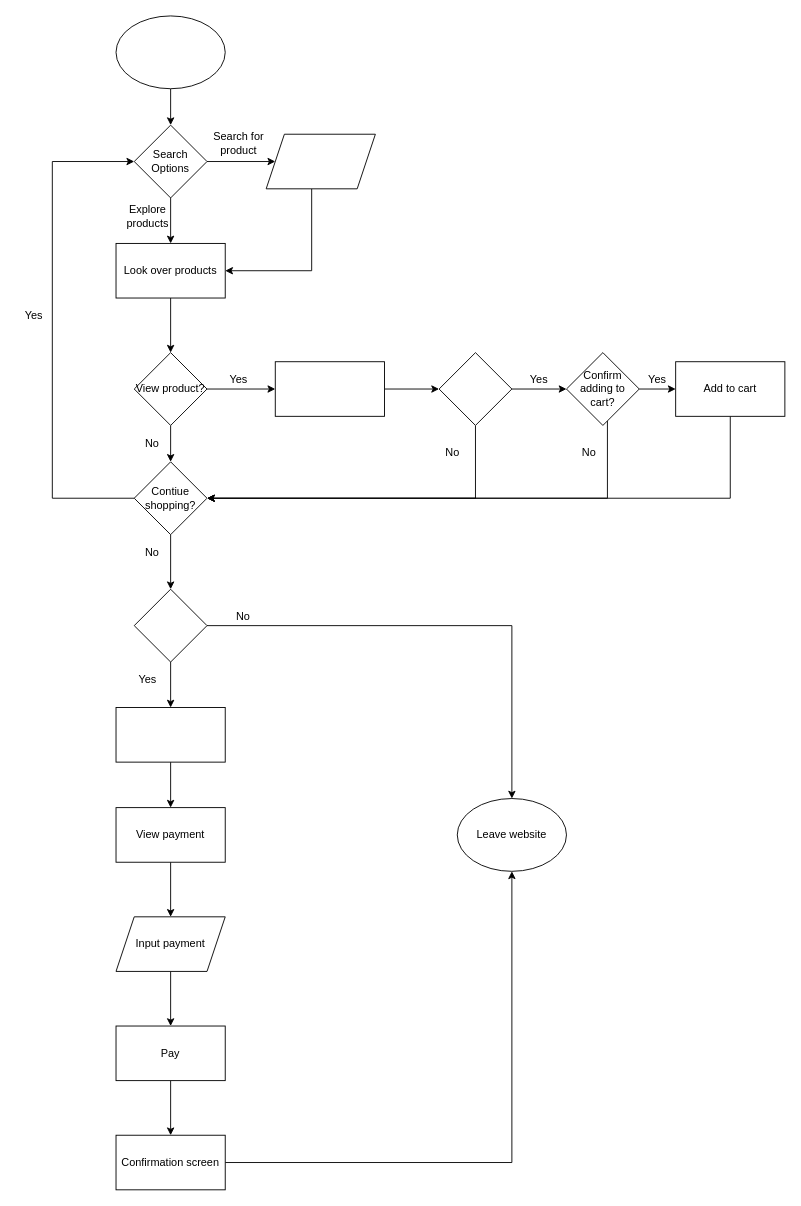
This 801x1206 diagram has some shape labels left out. Each missing label, with the box of its shape:
Add to cart?: (438, 352, 512, 425)
Checkout?: (133, 588, 207, 662)
Enter Website: (115, 15, 225, 89)
Open product page: (274, 361, 384, 416)
Provide input for Search: (265, 133, 375, 189)
View cart: (115, 707, 225, 762)
